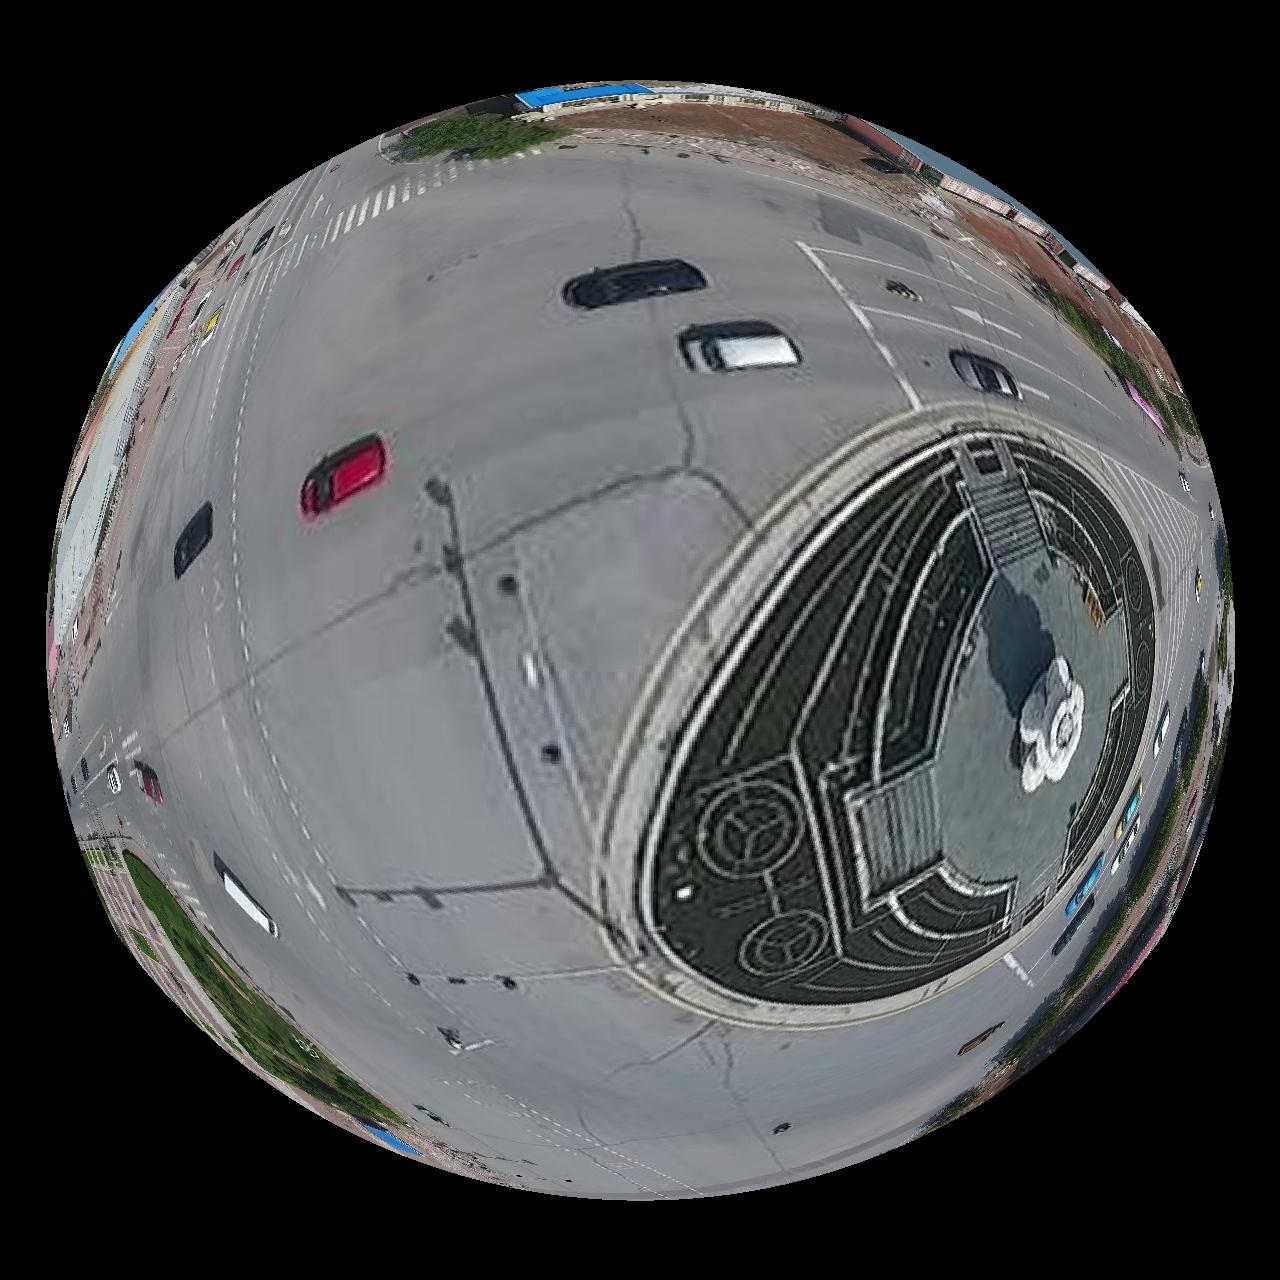cars: (563, 258, 707, 308), (299, 435, 386, 518), (213, 856, 277, 939), (682, 331, 799, 368), (952, 350, 1021, 399), (172, 502, 212, 579)
trees: (123, 853, 394, 1126)
